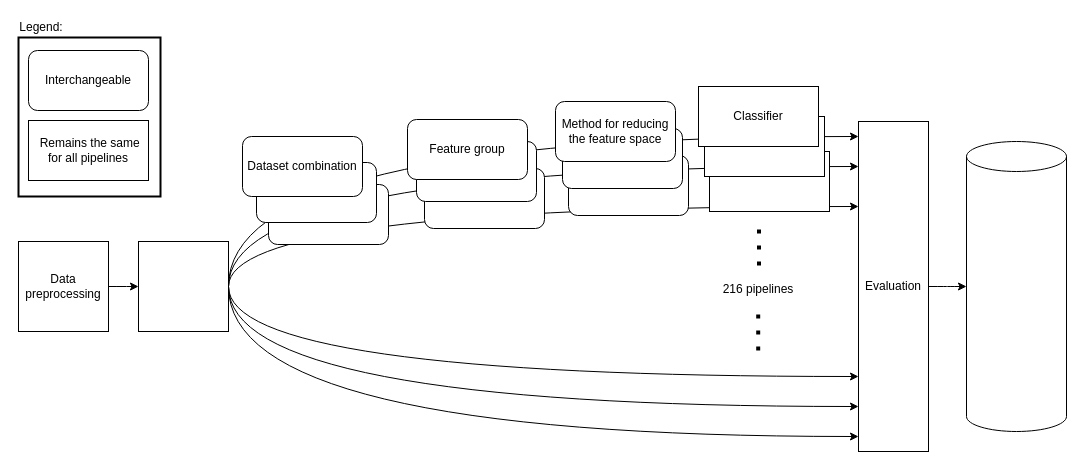
Image size: 1084x469. Some labels were removed from this diagram. The box of each missing label's shape, as (x1, y1, x2, y2) in pixels:
Feature extraction: (138, 240, 228, 332)
Logging: (966, 140, 1066, 432)
